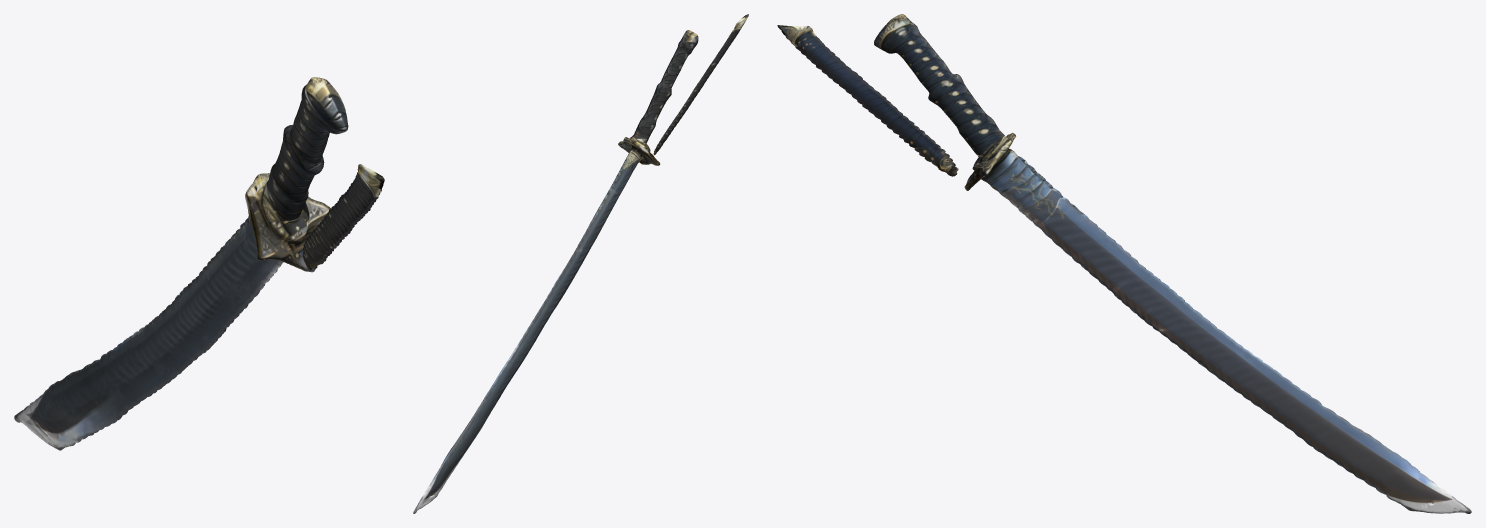
Rendered from AI_CombatKatana.fbx.
3 views of the same model, side by side, from view 1: azimuth 30°, elevation 25°; view 2: azimuth 150°, elevation 25°; view 3: azimuth 270°, elevation 25° (orthographic). The views are drawn at different scales.
Visible parts, largest first — view 1: Mesh1; view 2: Mesh1; view 3: Mesh1.
Part boxes in pixels (x1,y1,x2,y2): Mesh1: [14, 77, 384, 450]; Mesh1: [413, 14, 748, 513]; Mesh1: [777, 14, 1471, 513].
Bounding box in the file's own units: 34.56 × 146 × 201.
Materials: 1 (1 with a texture image).
